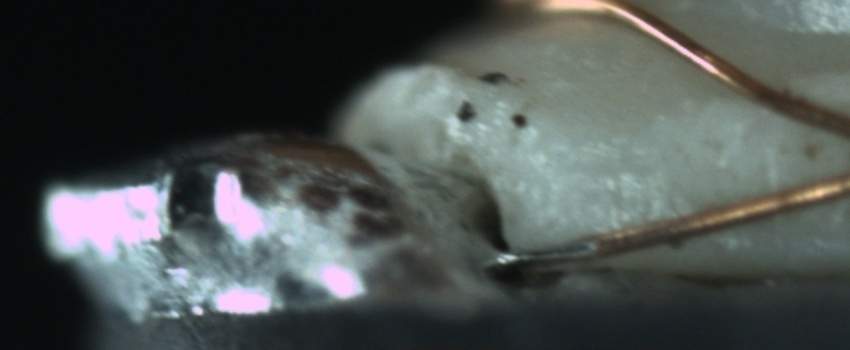DL: (542, 141, 668, 197)
TS: (500, 236, 598, 267)
TTCW: (492, 223, 643, 270)
